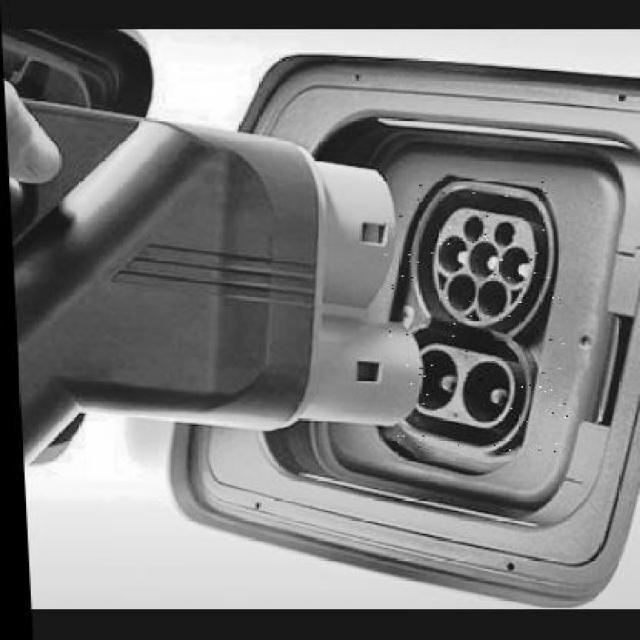CCS2: (367, 174, 586, 458)
